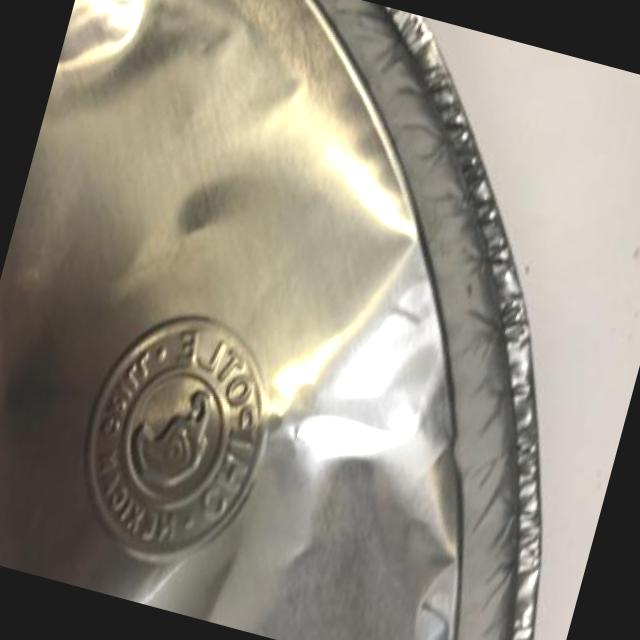kim_loai: (0, 0, 541, 640)
